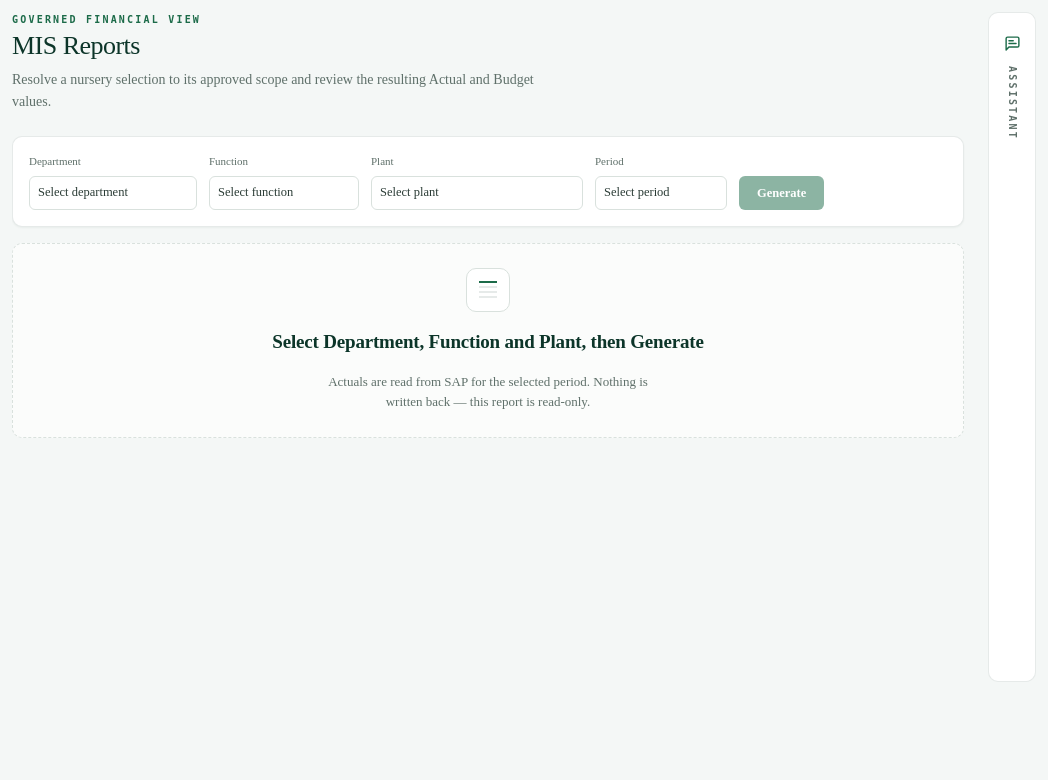
Test: the dock says so locally when the scope has no mapping and submits no grounded ask
Check: the dropdown labelled "Period" is shown, box x1=595 y1=176 x2=727 y2=210
Select "Agriculture" in the dropdown labelled "Department" at point(113, 193), box x1=29 y1=176 x2=197 y2=210
Select "Nursery" in the dropdown labelled "Function" at point(284, 193), box x1=209 y1=176 x2=359 y2=210
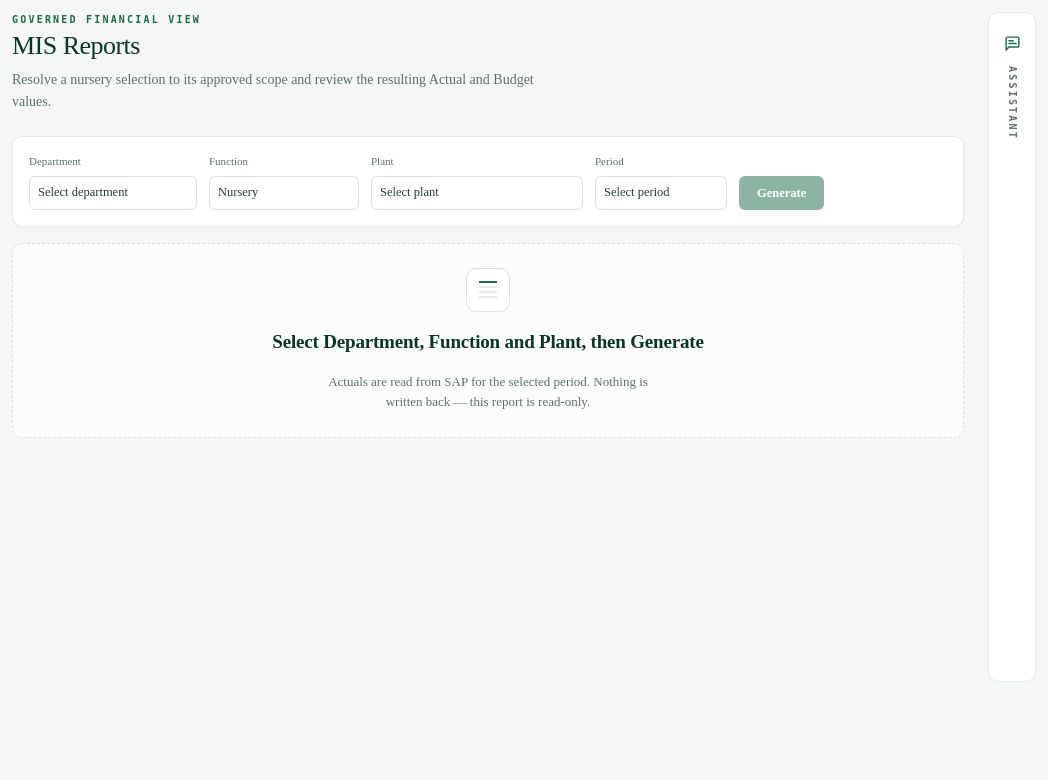
Select "Agri - Nursery - DUB" in the dropdown labelled "Plant" at point(477, 193), box x1=371 y1=176 x2=583 y2=210
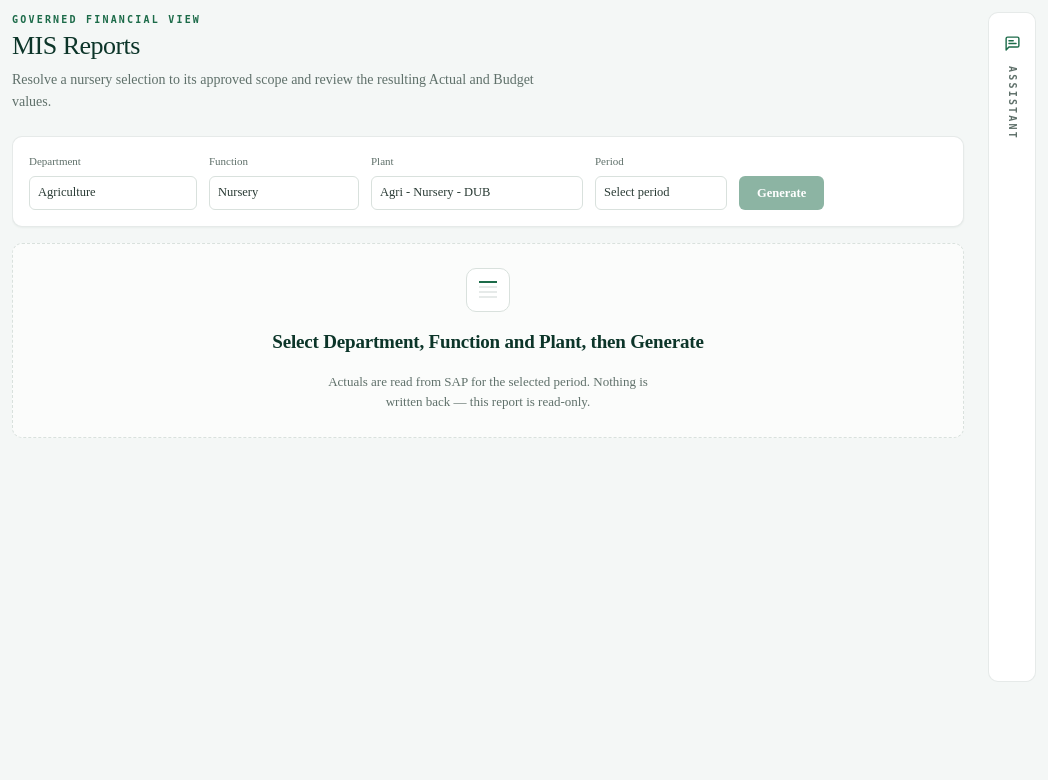
Select "Jul 2026" in the dropdown labelled "Period" at point(661, 193), box x1=595 y1=176 x2=727 y2=210
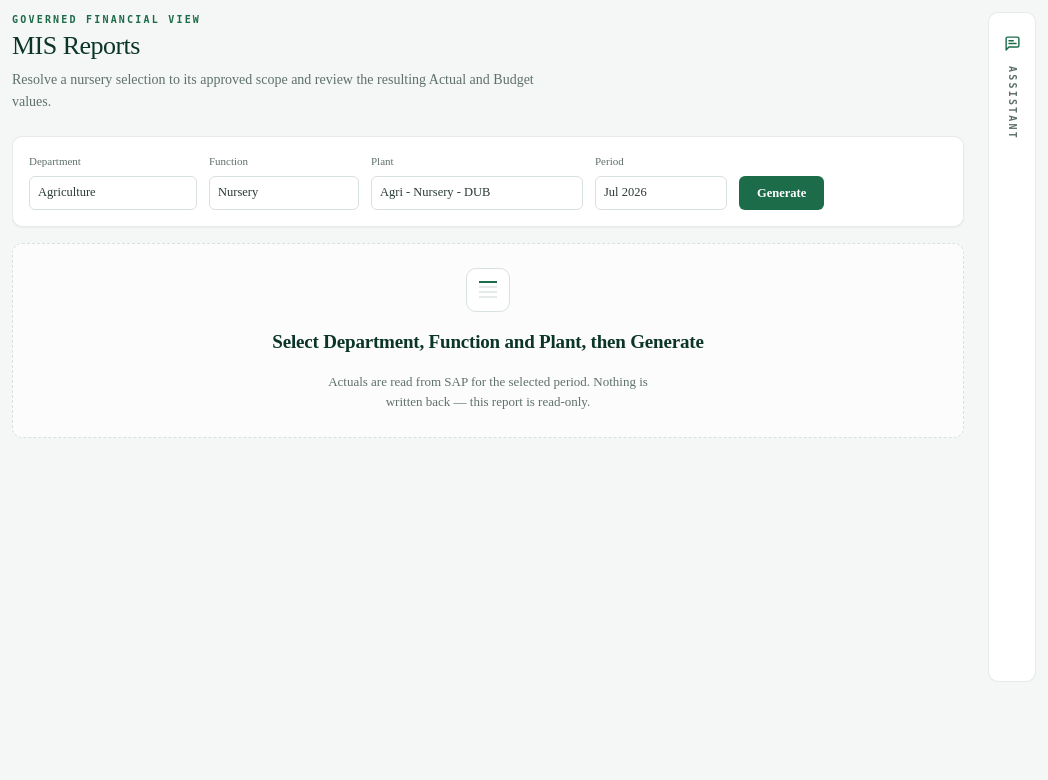
Click the button "Generate" at point(782, 193), box x1=739 y1=176 x2=824 y2=210
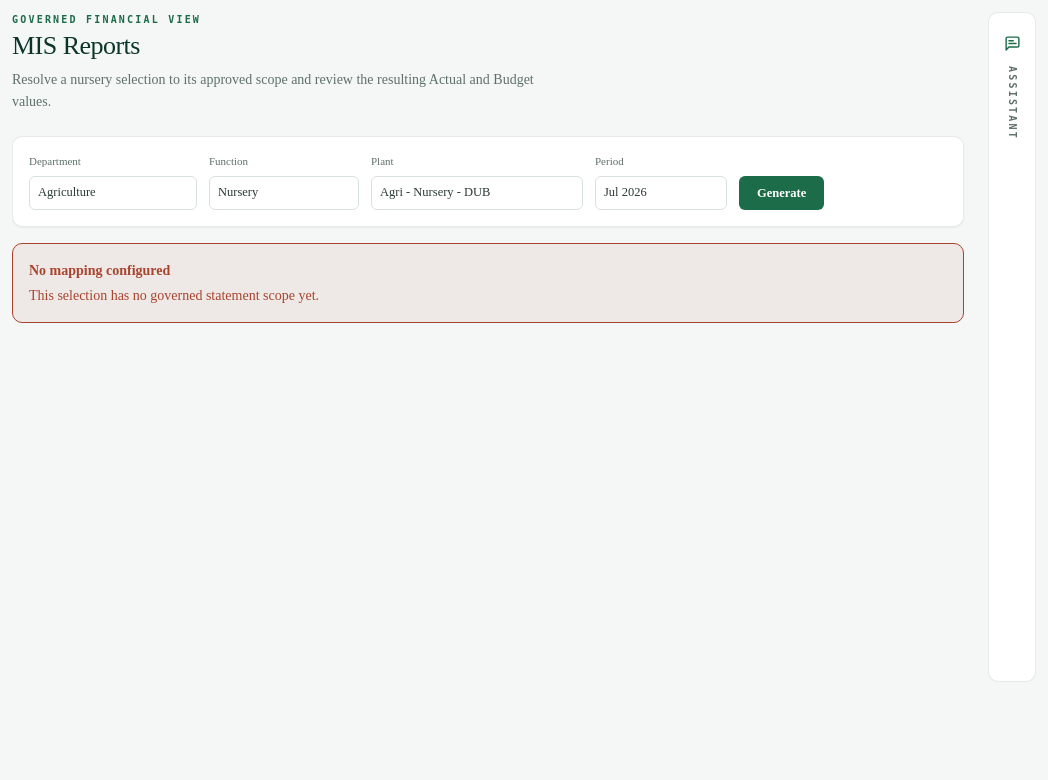
Check: the text "No mapping configured" is shown, box x1=29 y1=263 x2=170 y2=278
Click the button "Assistant" at point(1012, 347), box x1=988 y1=12 x2=1036 y2=682
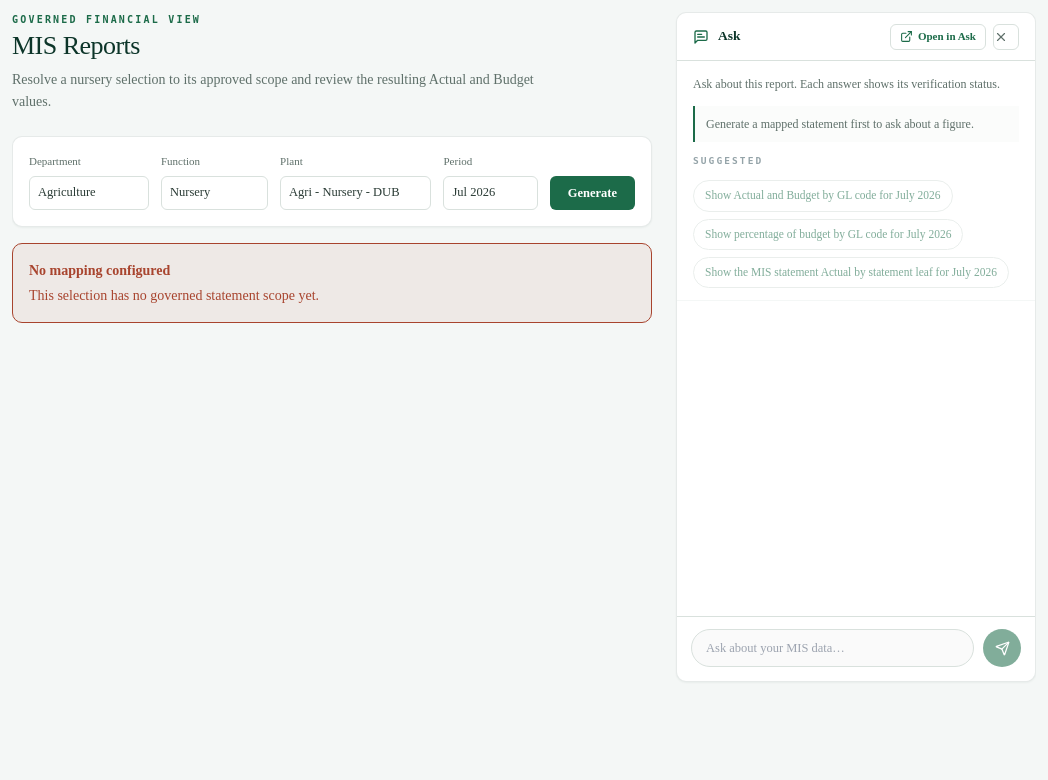
Check: the text "Generate a mapped statement first to ask about a figure." is shown, box x1=693 y1=106 x2=1019 y2=142
